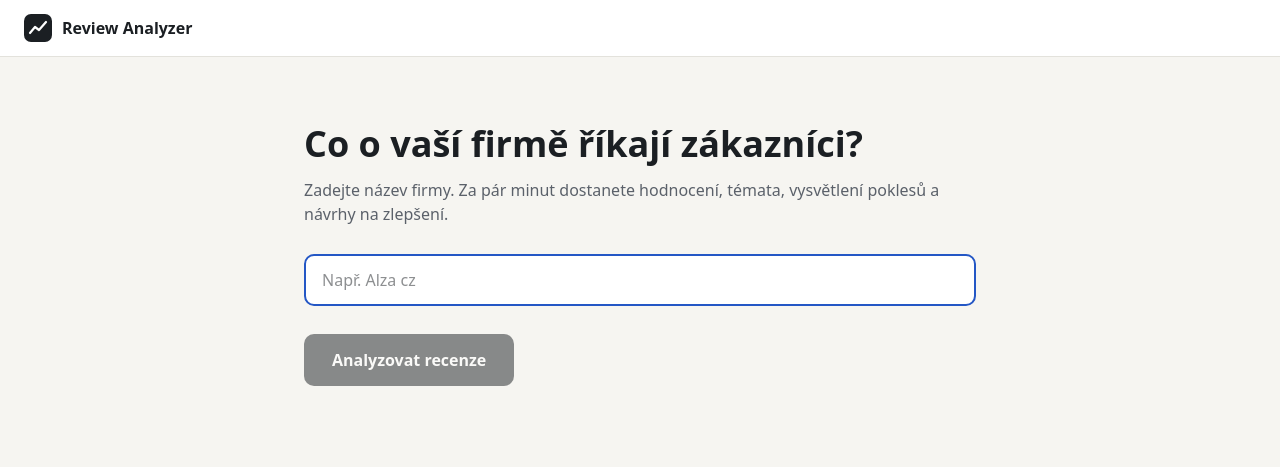
Scenario: choosing one Place › disables the button again when the text is edited
The width and height of the screenshot is (1280, 467).
Type "kav" into the search field.
click(640, 280); type("kav")  # box [304, 254, 976, 306]
Wait 400 ms
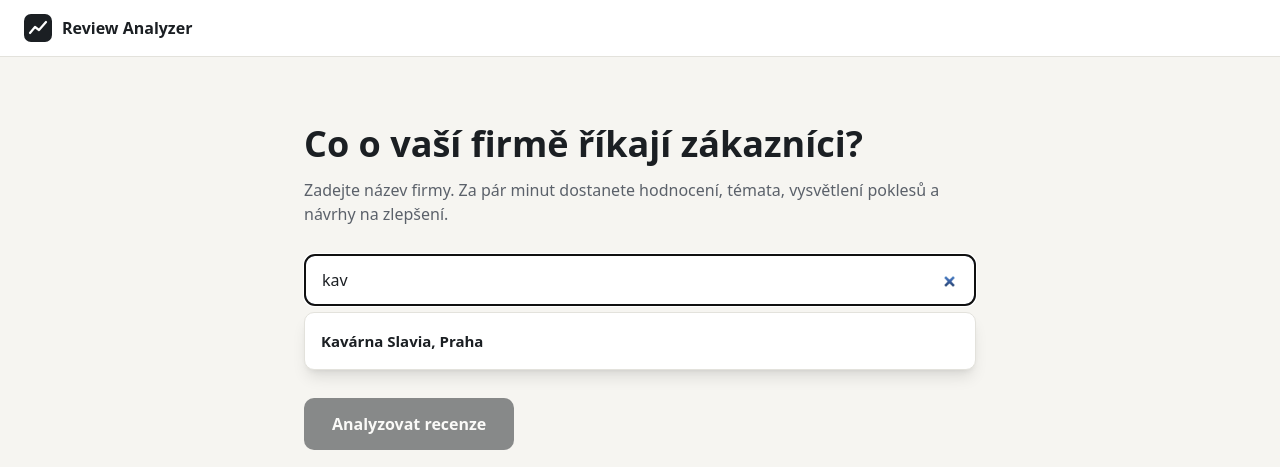
Click the button "Kavárna Slavia, Praha".
click(402, 341)  # box [305, 313, 975, 369]
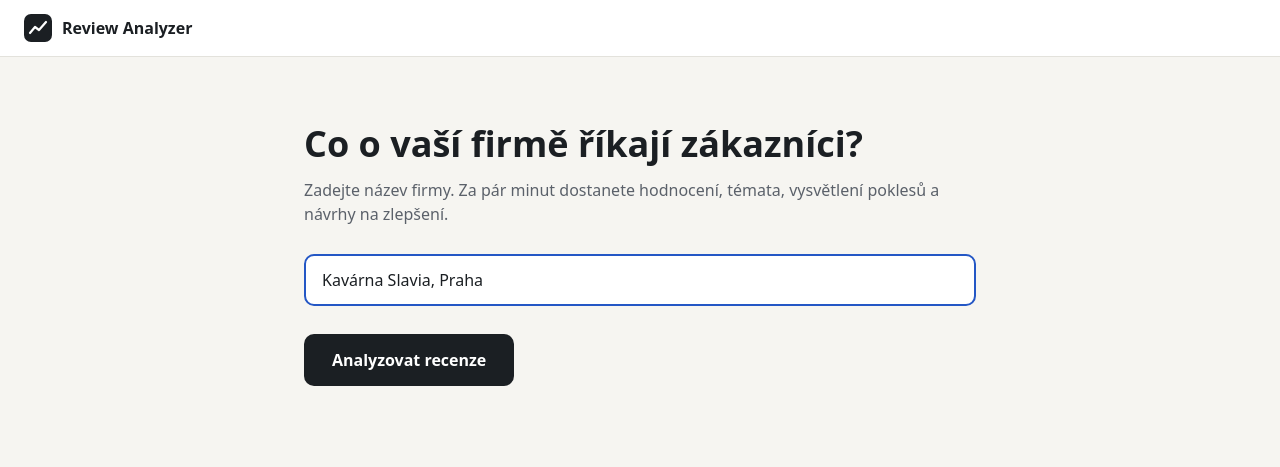
Type "x" into the search field.
click(640, 280); type("x")  # box [304, 254, 976, 306]
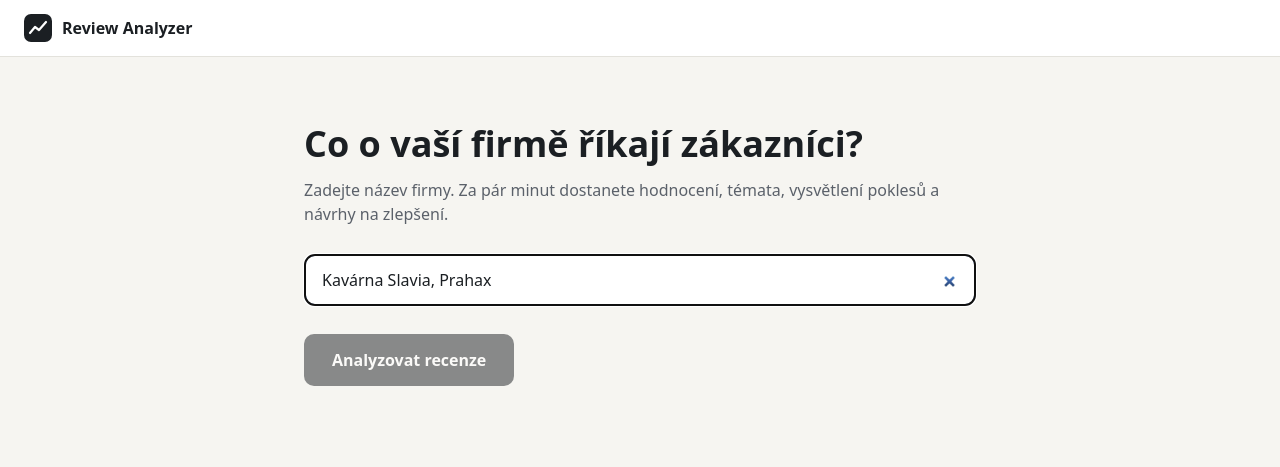
Result: the button "Analyzovat recenze" is disabled at [304, 334, 514, 386]
